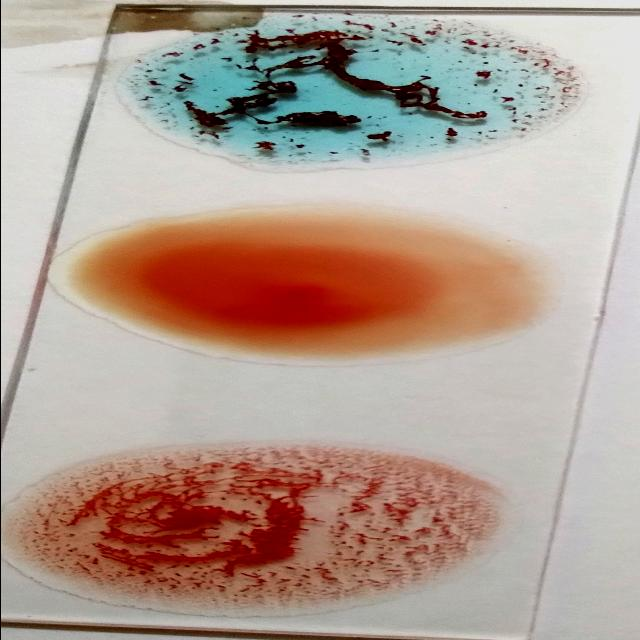A: (119, 17, 572, 161)
D: (12, 435, 492, 611)
